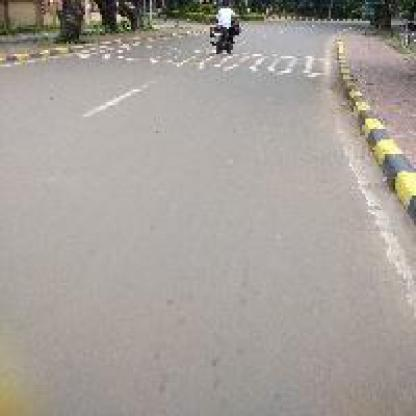Speed Bump: (233, 50, 320, 81), (98, 40, 191, 66)
